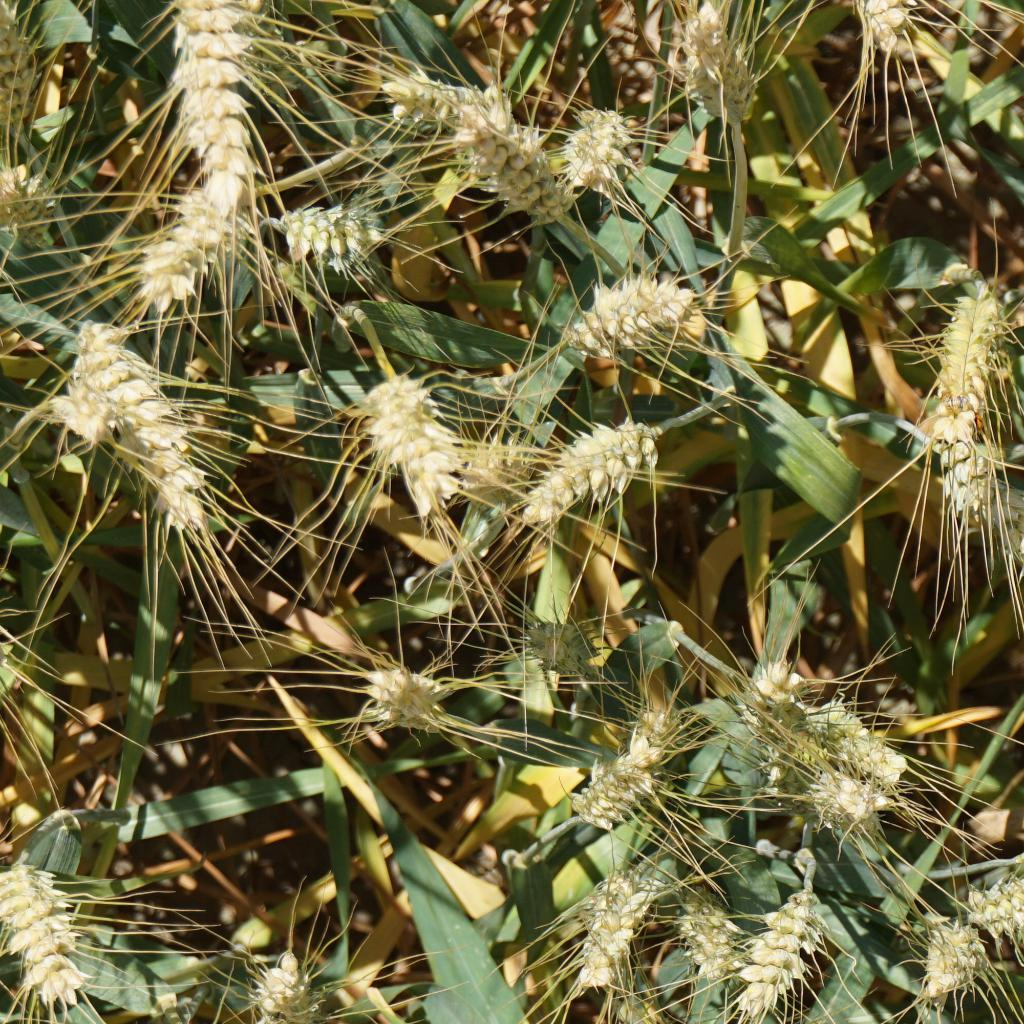0-0: (78, 312, 221, 520), (158, 0, 257, 199), (521, 409, 662, 524), (561, 266, 717, 365), (365, 54, 512, 156), (951, 459, 1024, 649), (372, 372, 470, 508), (667, 0, 756, 143), (155, 188, 264, 304), (455, 119, 571, 228), (563, 870, 659, 992), (0, 857, 78, 1002), (732, 896, 827, 1009), (222, 0, 307, 116), (804, 685, 903, 775), (928, 281, 994, 415), (928, 400, 989, 536), (359, 656, 455, 742), (274, 193, 379, 264), (562, 103, 642, 195), (917, 910, 985, 1014), (519, 600, 601, 685), (624, 692, 709, 773), (571, 740, 654, 822), (0, 157, 79, 236), (244, 937, 318, 1020), (674, 887, 742, 974), (743, 648, 796, 755), (971, 846, 1024, 934), (815, 760, 877, 830), (856, 0, 911, 69), (0, 15, 32, 131), (466, 425, 523, 490), (1009, 793, 1024, 846)
